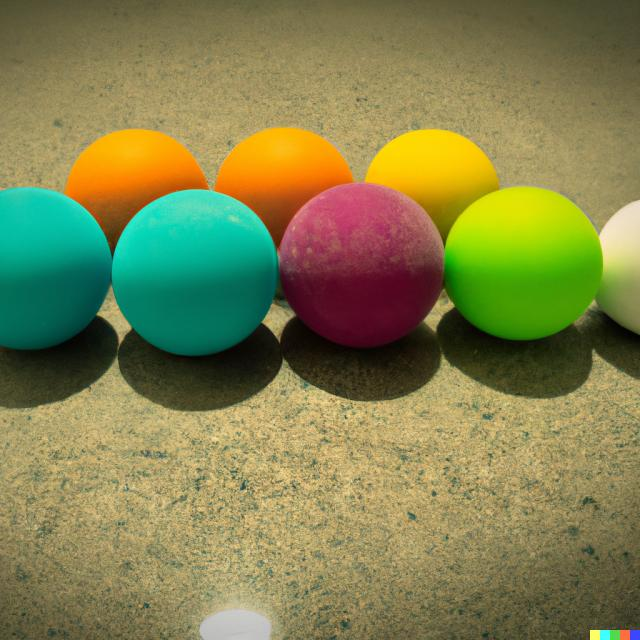blue-golf-balls: (112, 190, 279, 356), (0, 187, 114, 347)
green-golf-balls: (446, 188, 604, 341)
orange-golf-balls: (216, 128, 353, 232), (66, 130, 210, 226)
purple-pink-golf-balls: (280, 182, 446, 346)
white-golf-balls: (599, 199, 640, 334)
yellow-golf-balls: (366, 128, 502, 244)
